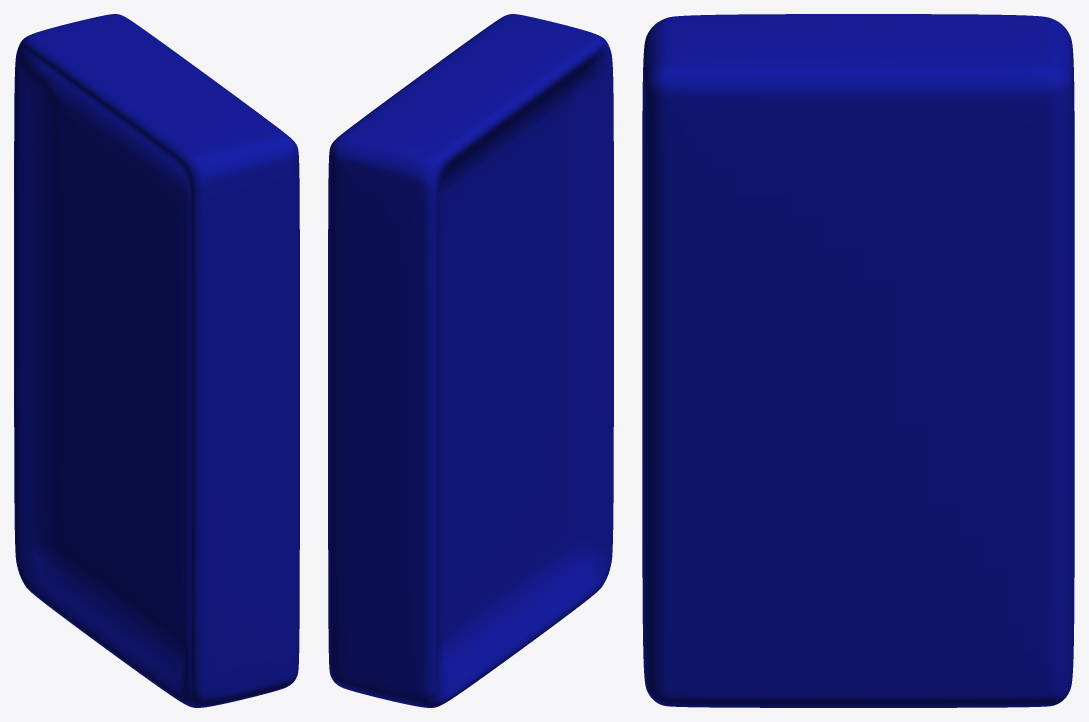
Rendered from sequencer.glb.
3 renders of one model, left to right at view 1: azimuth 30°, elevation 25°; view 2: azimuth 150°, elevation 25°; view 3: azimuth 270°, elevation 25°, orthographic. The views are drawn at different scales.
Visible parts, largest first — view 1: Cube; view 2: Cube; view 3: Cube.
Boxes of the visible parts, bbox=[...] form: Cube: bbox=[14, 14, 299, 707]; Cube: bbox=[328, 14, 613, 707]; Cube: bbox=[642, 14, 1074, 707].
Size of the model in its own units: 0.7012 by 3.29 by 2.
